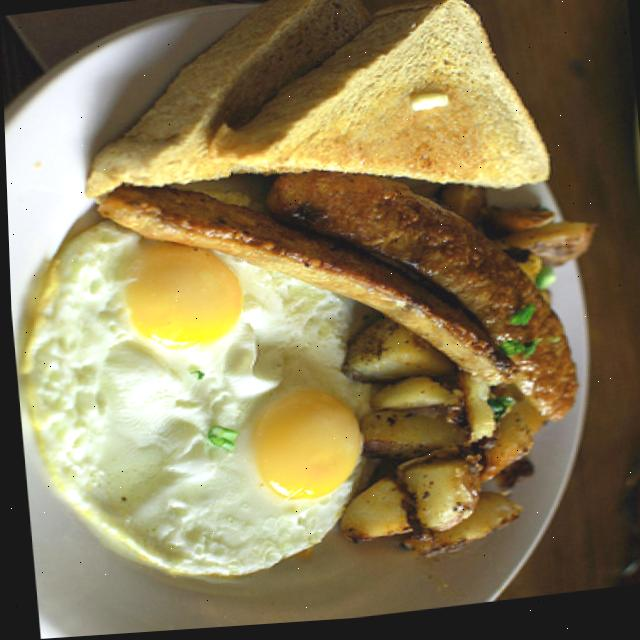面包点心: (88, 0, 559, 244)
鸡蛋料理: (15, 220, 352, 599)
